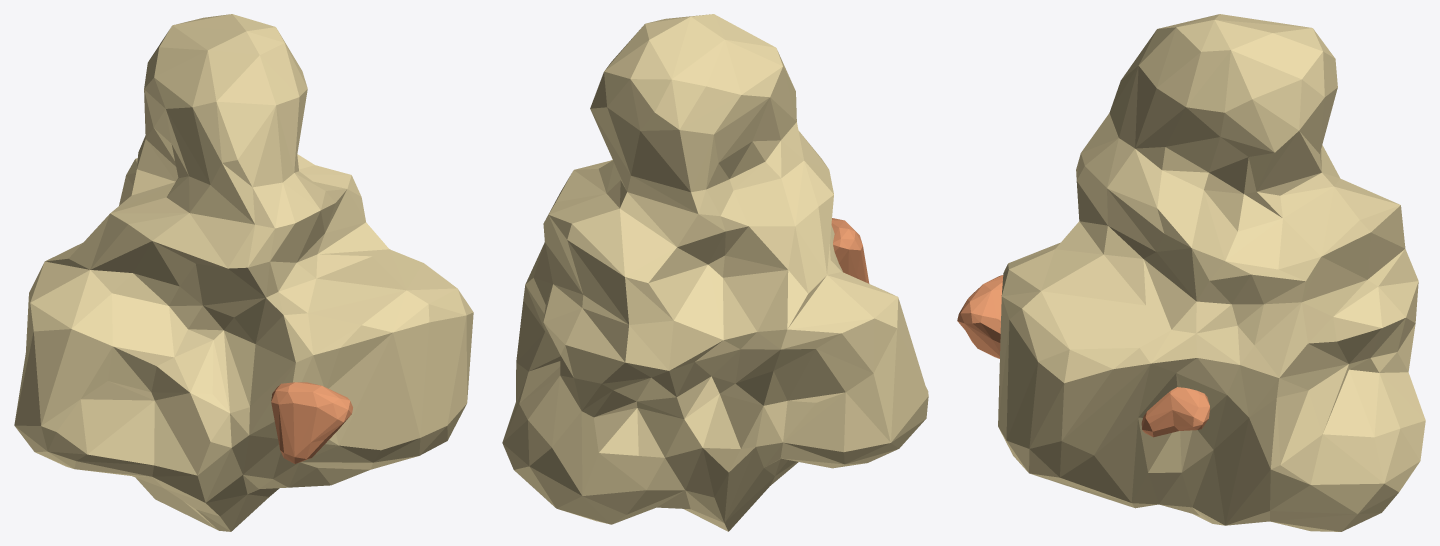
The model's file is StoneOre (3).fbx.
3 renders of one model, left to right at view 1: azimuth 30°, elevation 25°; view 2: azimuth 150°, elevation 25°; view 3: azimuth 270°, elevation 25°, orthographic. The views are drawn at different scales.
Visible parts, largest first — view 1: Asteroid290; view 2: Asteroid290; view 3: Asteroid290.
Boxes of the visible parts, x1,y1,x2,y2 form: Asteroid290: (14,14,473,531); Asteroid290: (502,14,928,531); Asteroid290: (957,14,1425,531).
Size of the model in its own units: 300 by 363 by 306.
